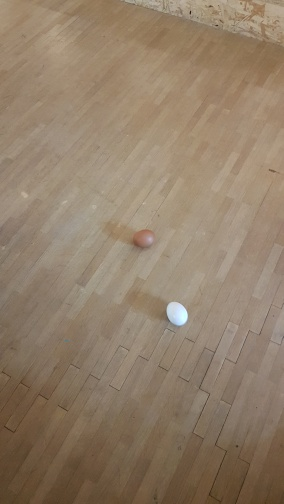egg: (164, 300, 189, 326), (131, 228, 157, 251)
